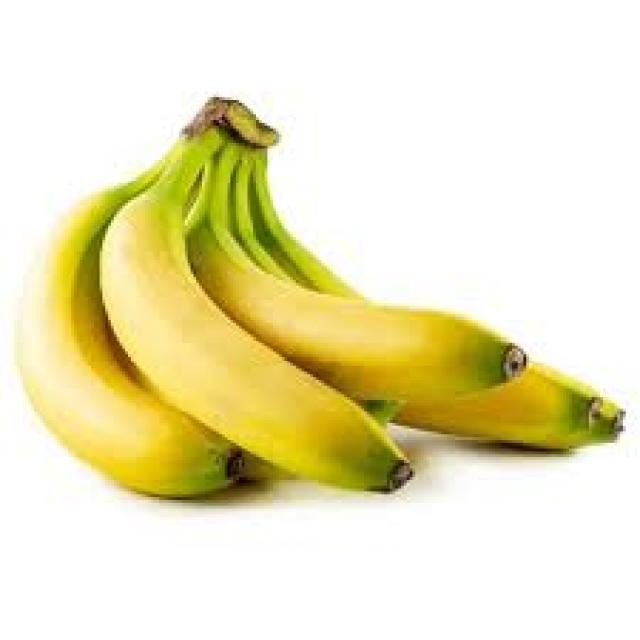banana: (11, 94, 626, 500)
